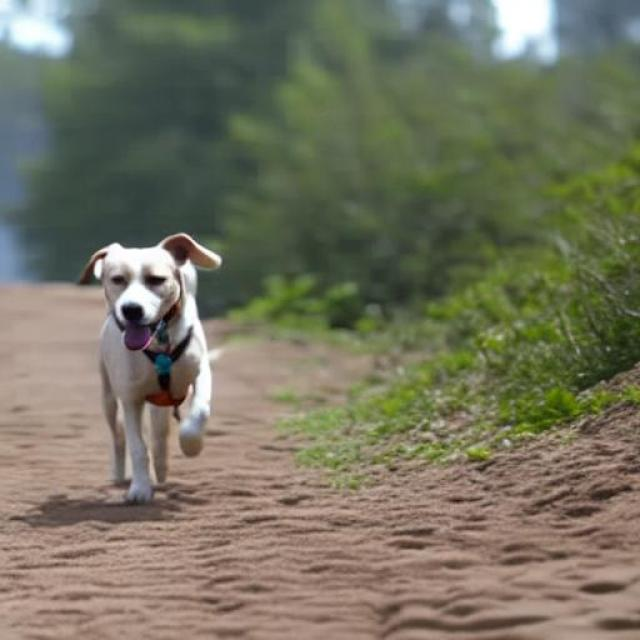Dog: (80, 233, 222, 503)
